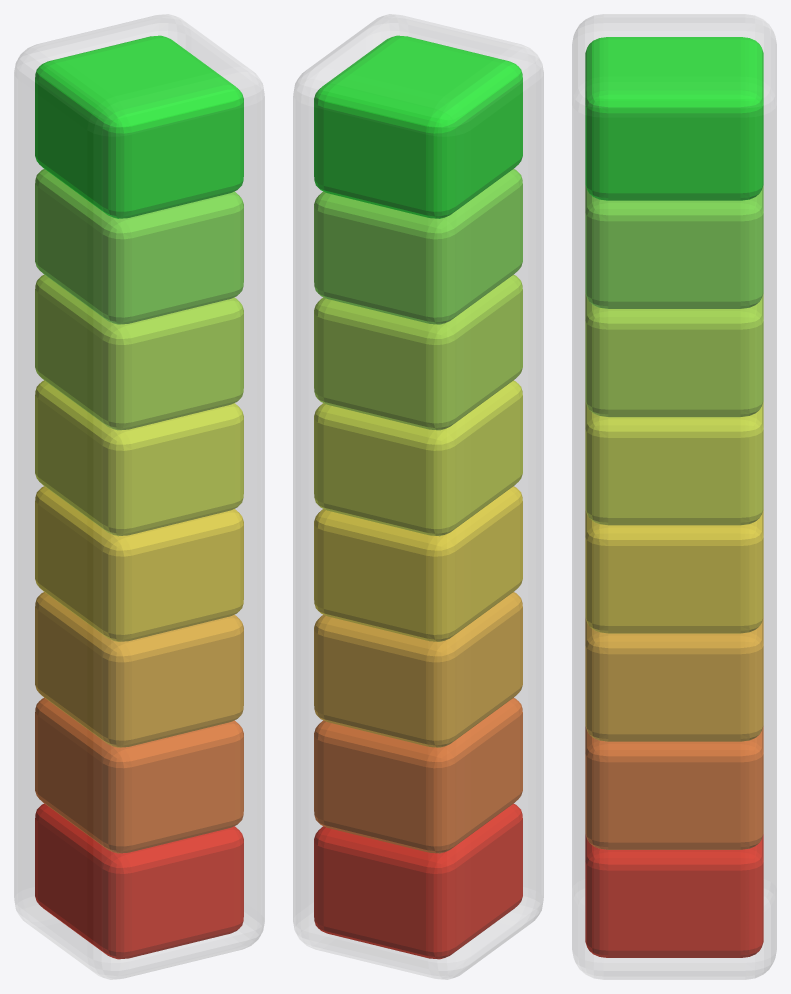
Rendered from ThermometerFull.gltf.
3 views of the same model, side by side, from view 1: azimuth 30°, elevation 25°; view 2: azimuth 150°, elevation 25°; view 3: azimuth 270°, elevation 25° (orthographic). The views are drawn at different scales.
Parts seen in each view (by area): view 1: Obudowa, Cube.008, Cube.005, Cube.007, Cube.004, Cube.001, Cube.003, Cube.006, Cube.002; view 2: Obudowa, Cube.008, Cube.005, Cube.001, Cube.007, Cube.004, Cube.003, Cube.006, Cube.002; view 3: Obudowa, Cube.008, Cube.003, Cube.005, Cube.001, Cube.004, Cube.007, Cube.006, Cube.002.
Boxes of the visible parts, x1=… form: Obudowa: x1=14, y1=14, x2=264, y2=979; Cube.008: x1=35, y1=35, x2=243, y2=218; Cube.005: x1=35, y1=380, x2=243, y2=536; Cube.007: x1=35, y1=169, x2=243, y2=324; Cube.004: x1=35, y1=486, x2=243, y2=641; Cube.001: x1=35, y1=697, x2=243, y2=853; Cube.003: x1=35, y1=592, x2=243, y2=747; Cube.006: x1=35, y1=274, x2=243, y2=430; Cube.002: x1=35, y1=803, x2=243, y2=959; Obudowa: x1=293, y1=14, x2=543, y2=979; Cube.008: x1=314, y1=35, x2=522, y2=218; Cube.005: x1=314, y1=380, x2=522, y2=536; Cube.001: x1=314, y1=697, x2=522, y2=853; Cube.007: x1=314, y1=169, x2=522, y2=324; Cube.004: x1=314, y1=486, x2=522, y2=641; Cube.003: x1=314, y1=592, x2=522, y2=747; Cube.006: x1=314, y1=274, x2=522, y2=430; Cube.002: x1=314, y1=803, x2=522, y2=959; Obudowa: x1=572, y1=14, x2=776, y2=979; Cube.008: x1=585, y1=37, x2=763, y2=200; Cube.003: x1=585, y1=618, x2=763, y2=741; Cube.005: x1=585, y1=401, x2=763, y2=525; Cube.001: x1=585, y1=726, x2=763, y2=849; Cube.004: x1=585, y1=510, x2=763, y2=633; Cube.007: x1=585, y1=185, x2=763, y2=308; Cube.006: x1=585, y1=293, x2=763, y2=417; Cube.002: x1=585, y1=834, x2=763, y2=957.
Bounding box in the file's own units: 0.2 × 0.9697 × 0.2.
